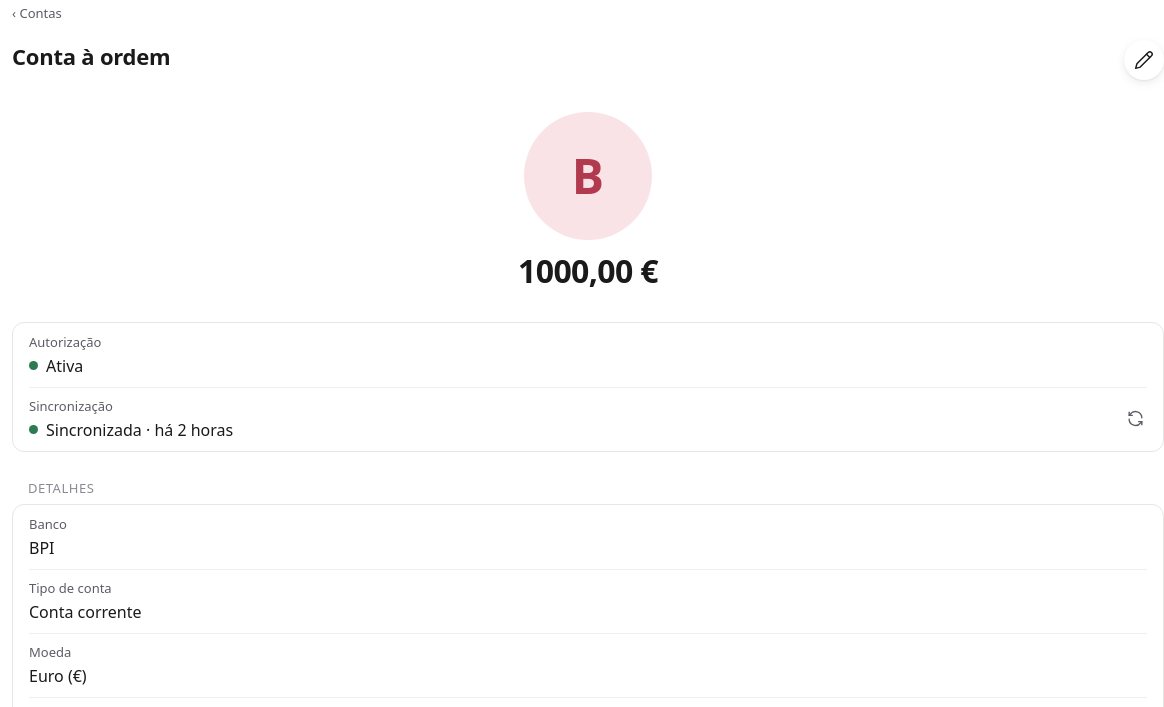
it: Ver conta — o painel do banco › um conflito (409) ao sincronizar diz «tenta mais tarde», e não «sem ligação»
The width and height of the screenshot is (1164, 707).
Click the button named "Sincronizar agora" at [1135, 418], box [1113,396,1157,440]
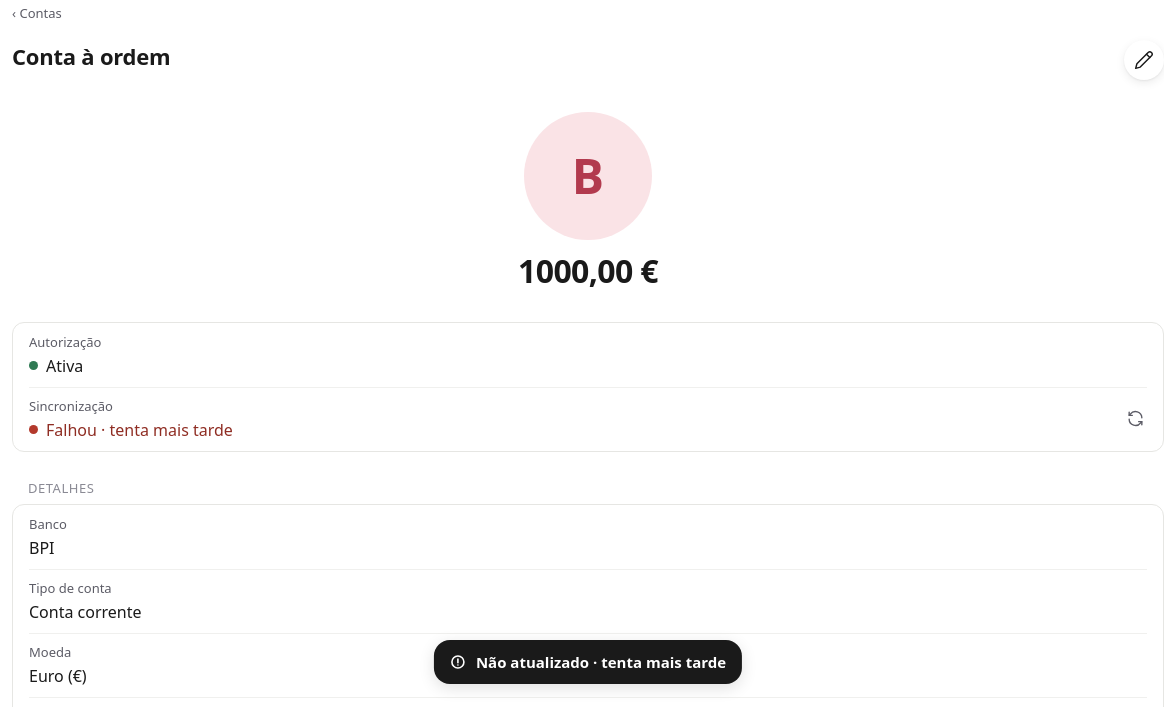
Check: the text "Falhou · tenta mais tarde" is shown, box [46,418,233,440]
Check: the text "Não atualizado · tenta mais tarde" is shown, box [476,652,726,672]
